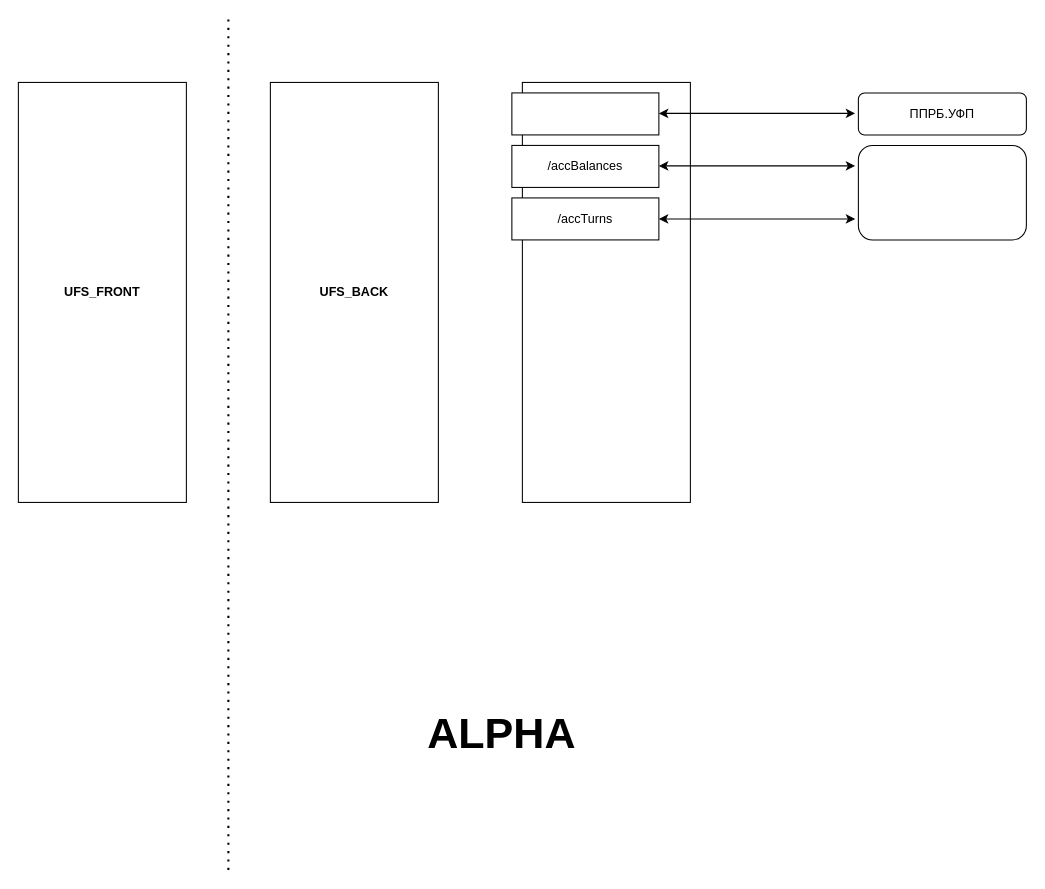
Image size: 1045x889. Some labels were removed from this diagram. Each missing label, with the box of its shape:
/account-info: (511, 92, 659, 135)
PPRB4: (521, 81, 690, 502)
БХБ.Выписка: (857, 144, 1026, 240)
